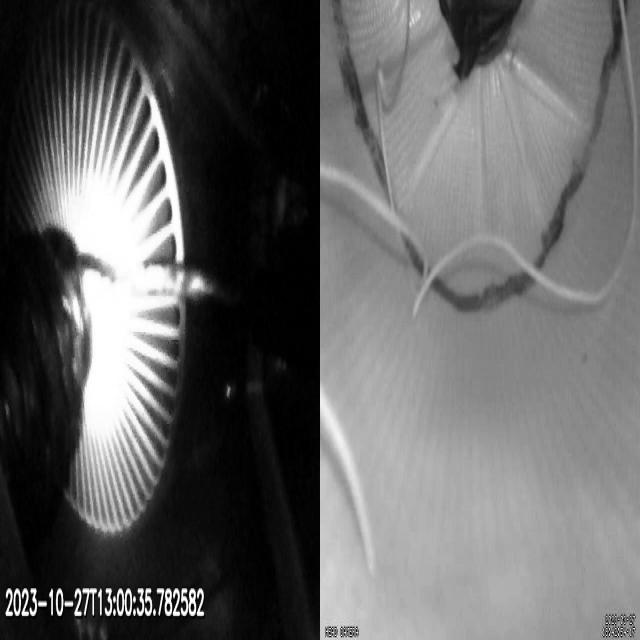red-circle: (325, 1, 640, 318)
